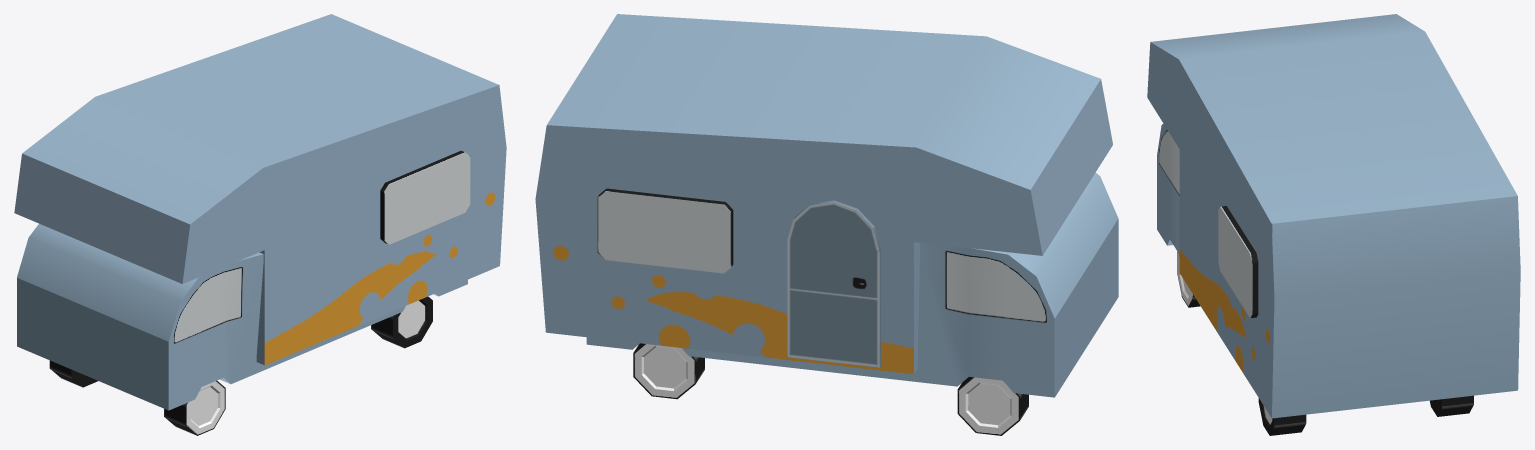
The model's file is Caravan.obj.
The picture shows the model from 3 angles, left to right: view 1: azimuth 30°, elevation 25°; view 2: azimuth 150°, elevation 25°; view 3: azimuth 270°, elevation 25°; orthographic projection. The views are drawn at different scales.
Parts seen in each view (by area): view 1: Caravan; view 2: Caravan; view 3: Caravan.
Part boxes in pixels (x1=…): Caravan: x1=14, y1=14, x2=506, y2=435; Caravan: x1=535, y1=14, x2=1118, y2=435; Caravan: x1=1147, y1=14, x2=1520, y2=435.
Bounding box in the file's own units: 0.1475 × 0.081 × 0.1009.
1 material, 1 textured.
